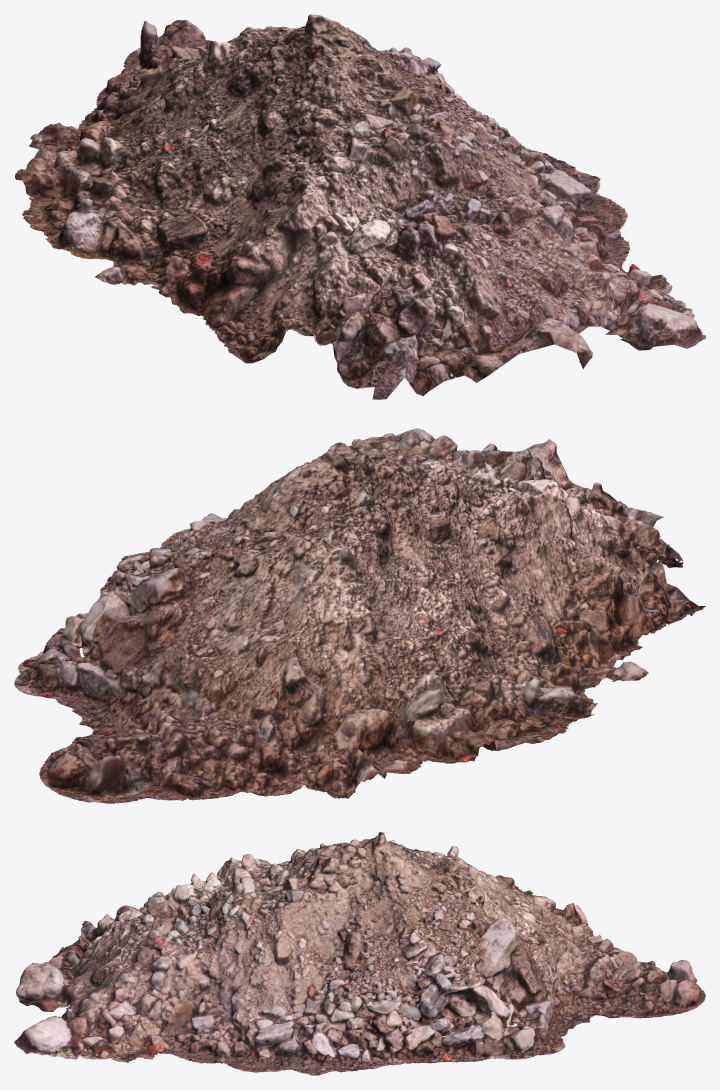
File: rubble.gltf
The picture shows the model from 3 angles, top to bottom: view 1: azimuth 30°, elevation 25°; view 2: azimuth 150°, elevation 25°; view 3: azimuth 270°, elevation 25°; orthographic projection. The views are drawn at different scales.
Parts seen in each view (by area): view 1: bake_0; view 2: bake_0; view 3: bake_0.
Part boxes in pixels (box(x1,y1,x2,y2)): bake_0: box(15, 14, 705, 399); bake_0: box(14, 428, 705, 803); bake_0: box(14, 832, 705, 1075).
Bounding box in the file's own units: 2.89 × 1.16 × 4.39.
1 material, 1 textured.
